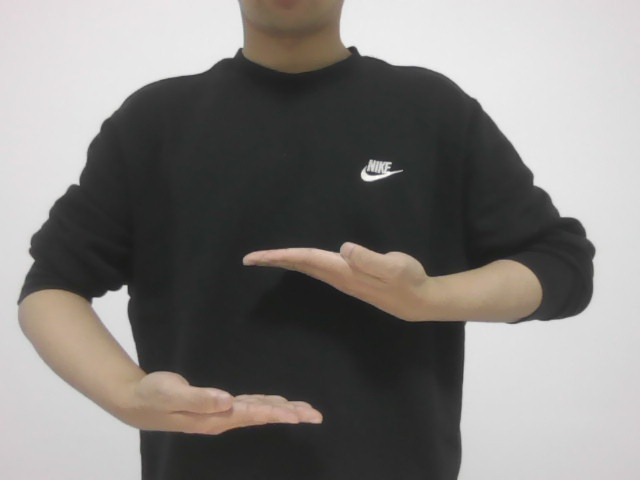happy: (124, 233, 430, 444)
